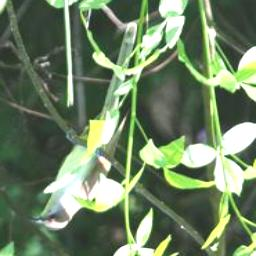Cuckoo: (28, 24, 138, 231)
